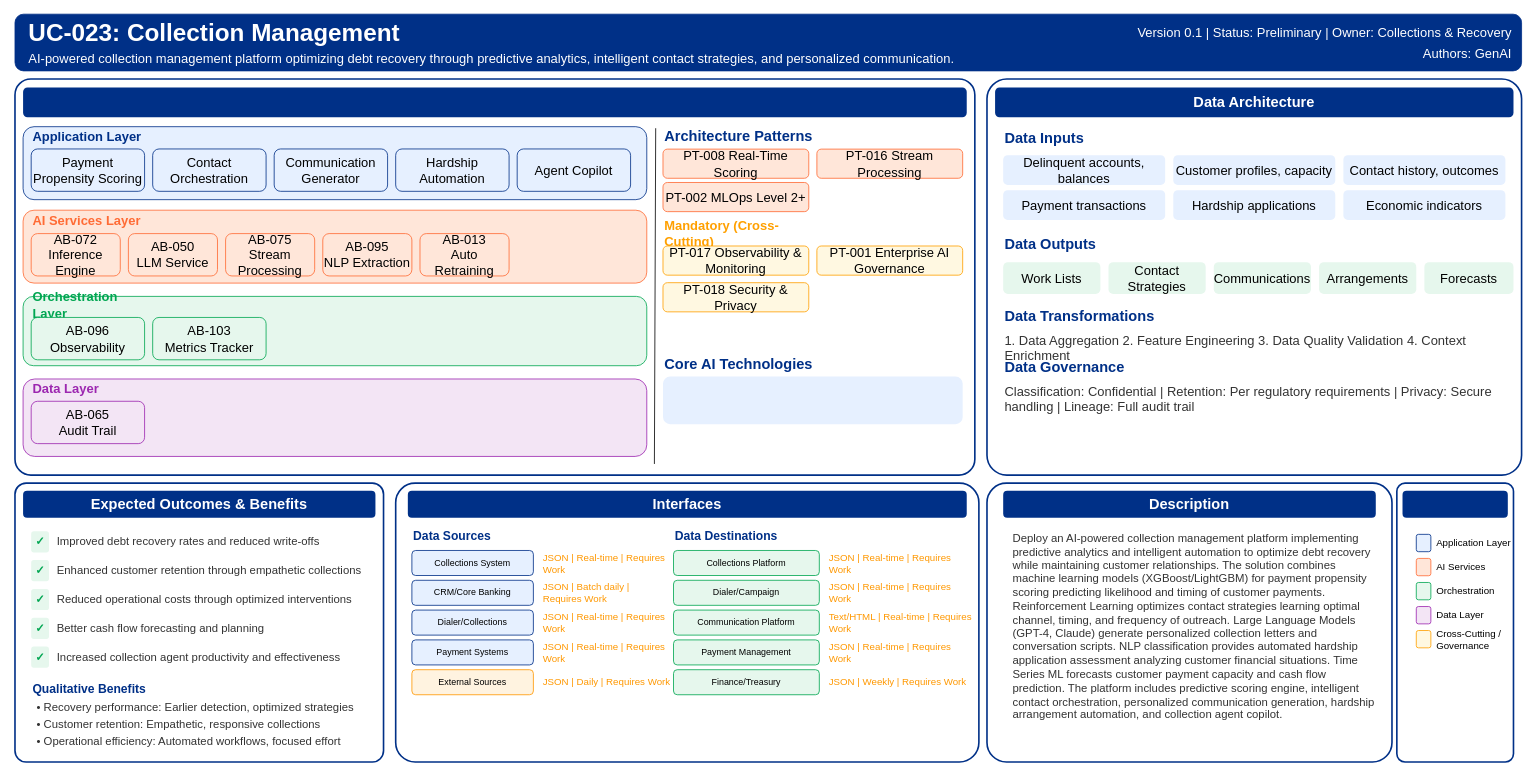
This 1537x777 diagram has some shape labels left out. Here are the shapes that lost their labels. From the top down, the box of each, then its label:
(23, 87, 966, 117): Solution
(663, 376, 962, 424): XGBoost/LightGBM | GPT-4/Claude | Reinforcement Learning | Time Series ML
(1402, 490, 1507, 517): Legend
